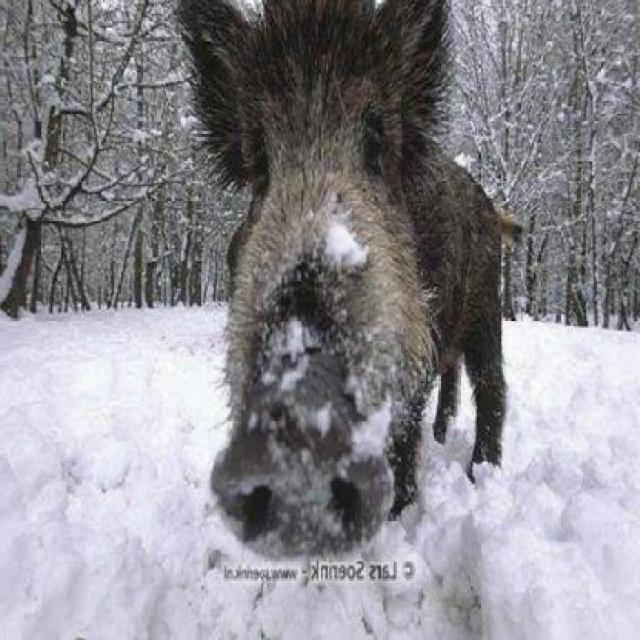Boar: (134, 0, 540, 571)
